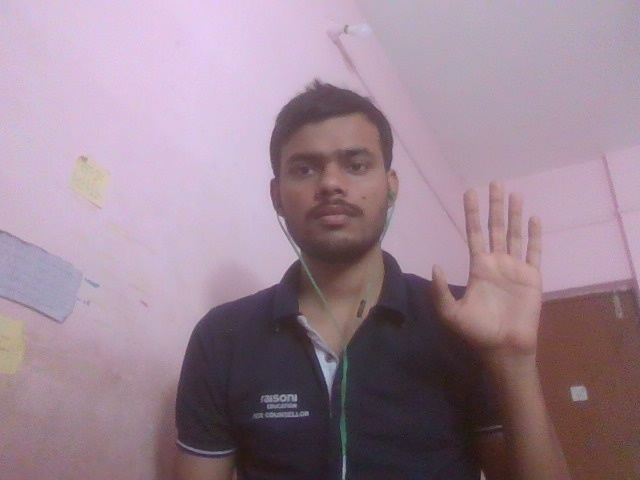Hello: (403, 174, 585, 392)
